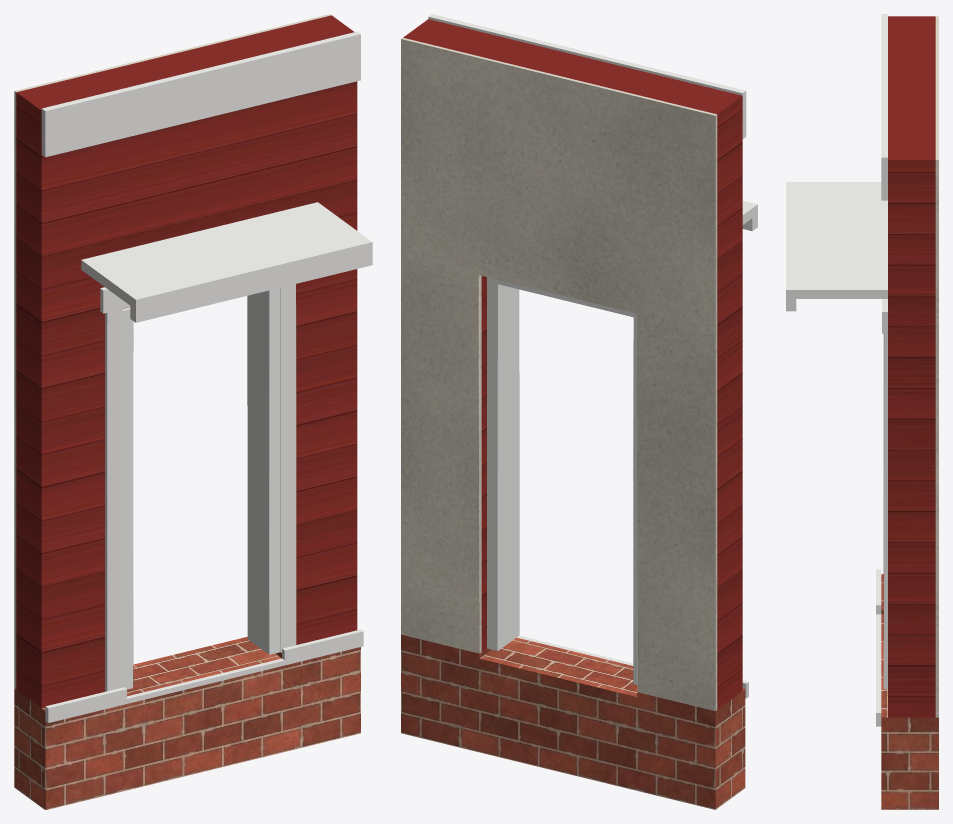
File: school_wall_backdoor.glb
The picture shows the model from 3 angles, left to right: view 1: azimuth 30°, elevation 25°; view 2: azimuth 150°, elevation 25°; view 3: azimuth 270°, elevation 25°; orthographic projection. The views are drawn at different scales.
Parts seen in each view (by area): view 1: school_wall_backdoor_siding, school_wall_backdoor_trim, school_wall_backdoor_brick, school_wall_backdoor_frame, school_wall_backdoor_plaster; view 2: school_wall_backdoor_plaster, school_wall_backdoor_brick, school_wall_backdoor_siding, school_wall_backdoor_frame, school_wall_backdoor_trim; view 3: school_wall_backdoor_siding, school_wall_backdoor_trim, school_wall_backdoor_brick, school_wall_backdoor_plaster.
Part boxes in pixels (bbox=[...]): school_wall_backdoor_siding: bbox=[16, 15, 357, 708]; school_wall_backdoor_trim: bbox=[41, 31, 372, 722]; school_wall_backdoor_brick: bbox=[14, 636, 360, 809]; school_wall_backdoor_frame: bbox=[123, 288, 280, 689]; school_wall_backdoor_plaster: bbox=[14, 14, 331, 689]; school_wall_backdoor_plaster: bbox=[401, 38, 717, 711]; school_wall_backdoor_brick: bbox=[401, 634, 745, 809]; school_wall_backdoor_siding: bbox=[403, 19, 742, 709]; school_wall_backdoor_frame: bbox=[487, 277, 637, 684]; school_wall_backdoor_trim: bbox=[428, 14, 757, 698]; school_wall_backdoor_siding: bbox=[888, 16, 935, 717]; school_wall_backdoor_trim: bbox=[786, 14, 887, 726]; school_wall_backdoor_brick: bbox=[881, 574, 938, 809]; school_wall_backdoor_plaster: bbox=[935, 16, 938, 717].
Bounding box in the file's own units: 2 × 4.24 × 0.9.
Materials: 5 (3 with a texture image).
